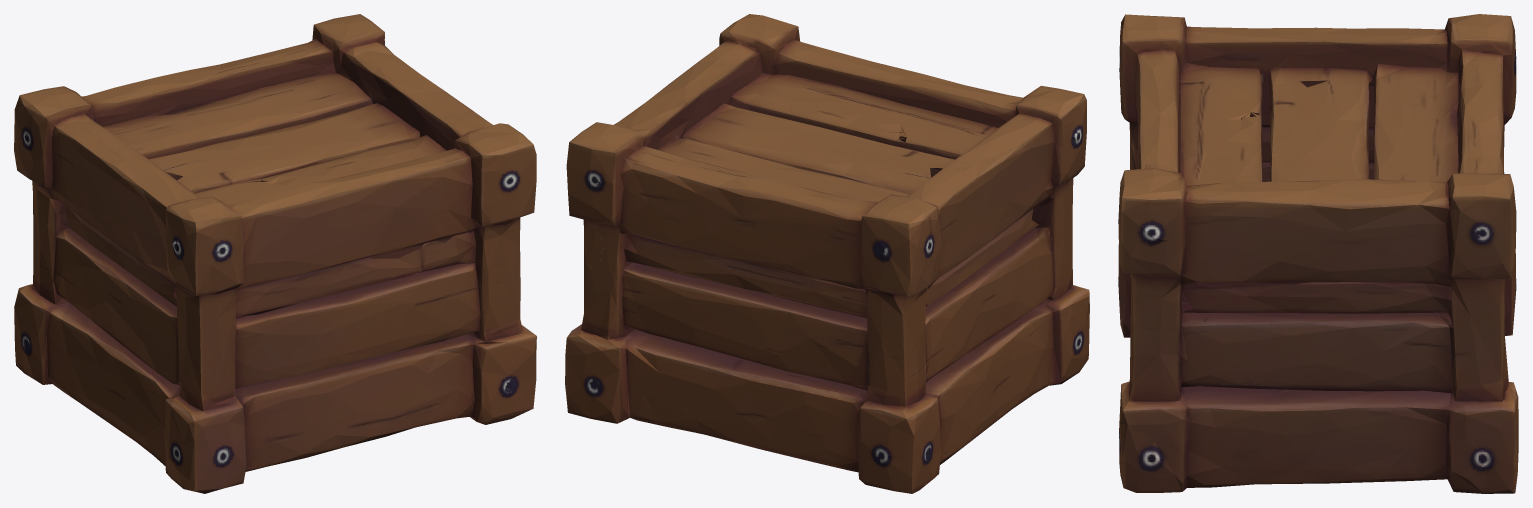
The model's file is caisse.glb.
3 views of the same model, side by side, from view 1: azimuth 30°, elevation 25°; view 2: azimuth 150°, elevation 25°; view 3: azimuth 270°, elevation 25° (orthographic). The views are drawn at different scales.
Parts seen in each view (by area): view 1: GLTF; view 2: GLTF; view 3: GLTF.
Part boxes in pixels (bbox=[...]): GLTF: bbox=[14, 14, 536, 493]; GLTF: bbox=[565, 14, 1089, 493]; GLTF: bbox=[1118, 14, 1518, 493].
Size of the model in its own units: 0.6 by 0.4495 by 0.5411.
1 material, 1 textured.
